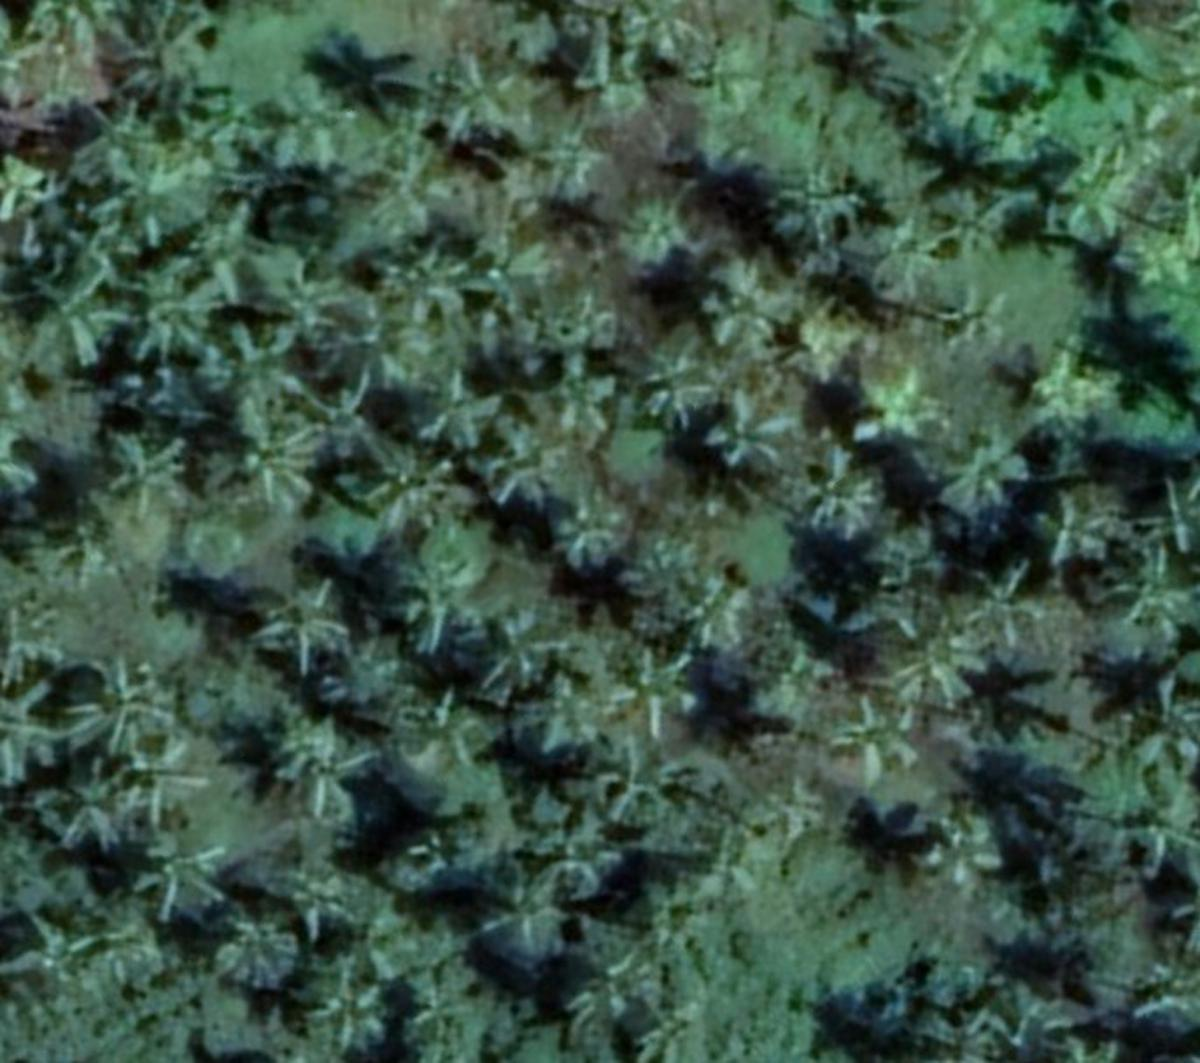coconut: (387, 544, 499, 672), (248, 570, 357, 686), (75, 660, 197, 761), (269, 712, 381, 817), (21, 267, 124, 375), (935, 425, 1040, 527), (763, 162, 859, 271), (98, 432, 201, 534), (367, 444, 467, 549), (459, 861, 565, 957), (124, 837, 240, 924), (788, 443, 886, 546), (600, 642, 699, 740), (371, 238, 472, 334), (257, 78, 364, 168), (877, 602, 977, 698), (5, 912, 119, 996), (695, 252, 791, 351), (901, 805, 1003, 896), (849, 366, 954, 455), (406, 376, 506, 465), (467, 607, 564, 698), (434, 56, 529, 147), (705, 381, 791, 479), (868, 213, 951, 315), (229, 422, 315, 513), (960, 548, 1045, 639), (595, 739, 679, 830), (530, 359, 627, 437), (634, 344, 718, 429), (304, 970, 397, 1045), (828, 691, 916, 767), (404, 686, 481, 770), (487, 429, 564, 509), (546, 497, 628, 570), (933, 283, 1014, 344)
